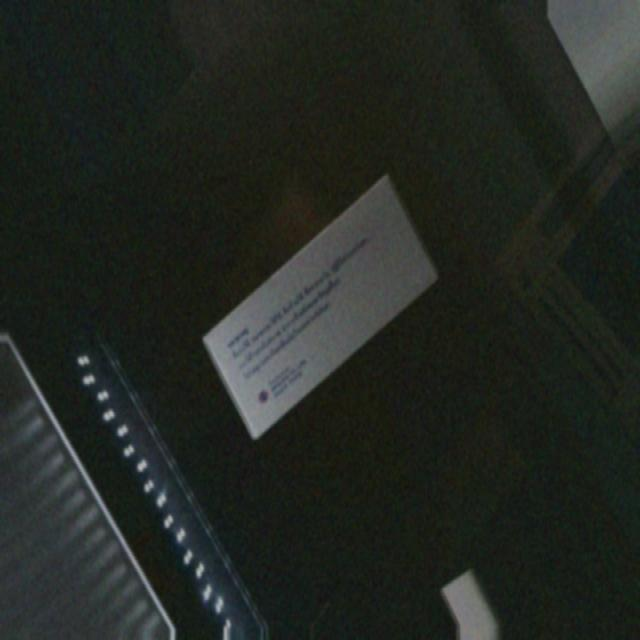sefloc: (179, 175, 461, 440)
